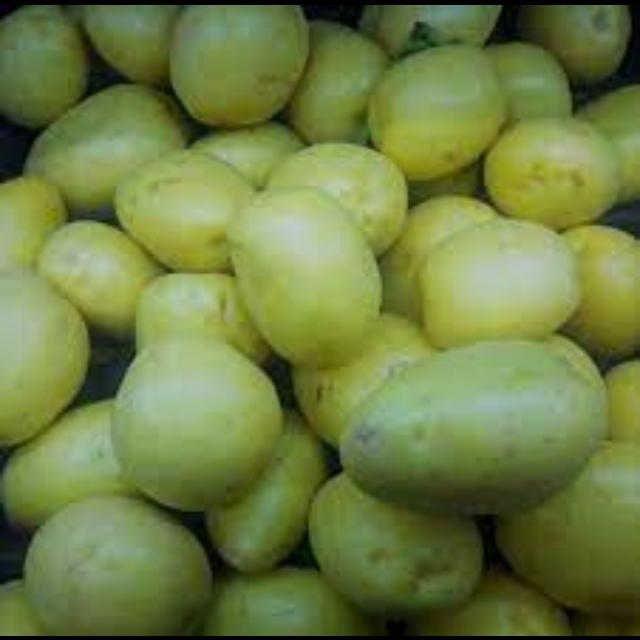Defected potato: (110, 269, 328, 575), (334, 316, 610, 526), (374, 194, 580, 350), (487, 427, 639, 636), (306, 473, 484, 635), (23, 494, 217, 636), (227, 179, 377, 355), (23, 86, 199, 234), (484, 86, 640, 247), (483, 217, 639, 369), (1, 397, 161, 538), (366, 45, 512, 183), (167, 5, 313, 129), (0, 264, 94, 456), (38, 216, 178, 338), (285, 18, 397, 168), (199, 565, 391, 635), (2, 4, 94, 128), (508, 5, 632, 84), (81, 4, 199, 86), (356, 4, 508, 66)
